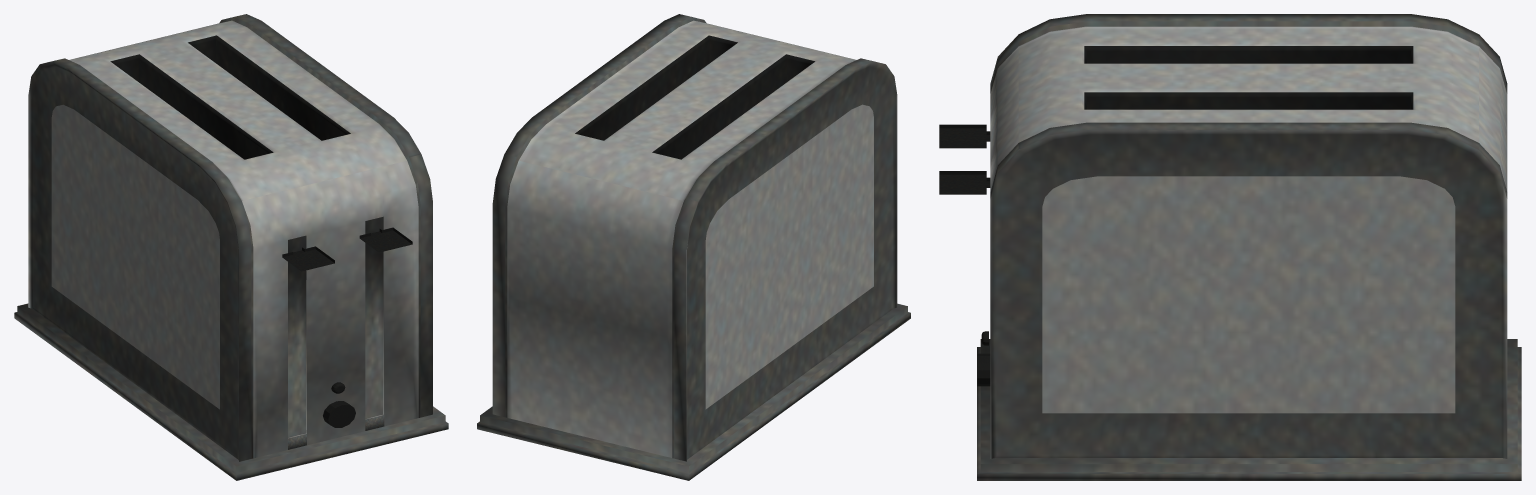
File: toaster.glb
3 views of the same model, side by side, from view 1: azimuth 30°, elevation 25°; view 2: azimuth 150°, elevation 25°; view 3: azimuth 270°, elevation 25° (orthographic). The views are drawn at different scales.
Visible parts, largest first — view 1: toaster; view 2: toaster; view 3: toaster.
Part boxes in pixels (bbox=[...]): toaster: bbox=[14, 14, 448, 480]; toaster: bbox=[477, 14, 910, 480]; toaster: bbox=[939, 14, 1521, 480].
Size of the model in its own units: 0.1929 by 0.2481 by 0.3741.
Materials: 2 (2 with a texture image).
